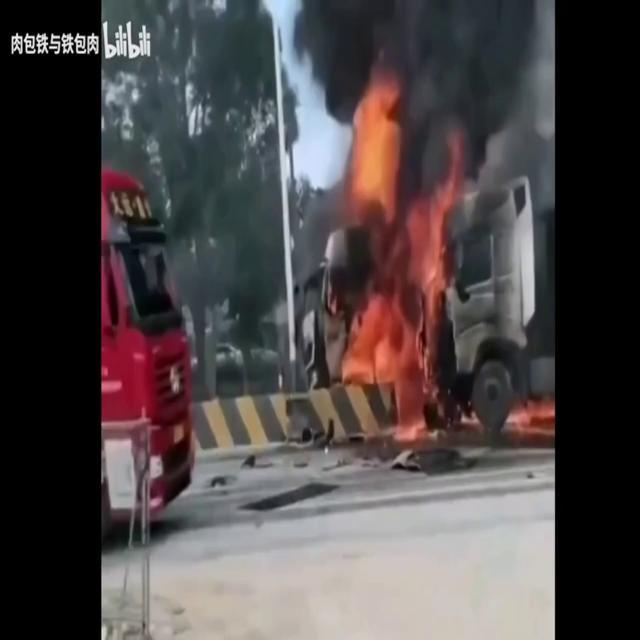single accident: (307, 170, 537, 393)
